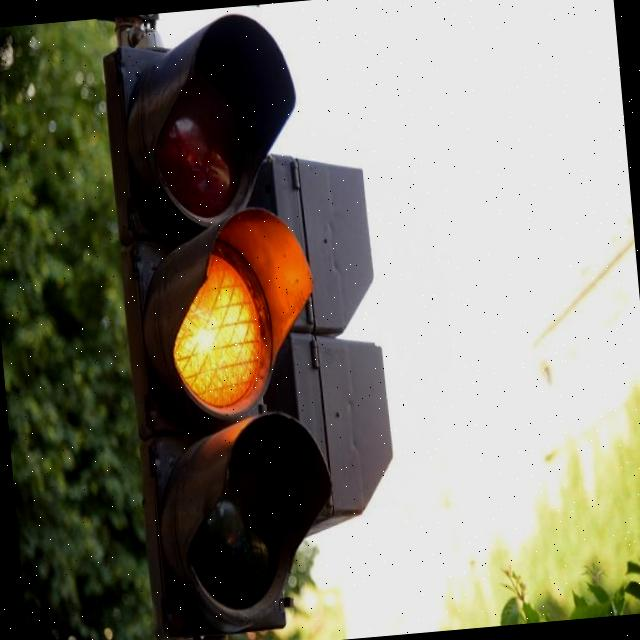yellow_light: (106, 7, 340, 630)
